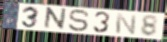3: (20, 5, 42, 29), (91, 11, 113, 34)
8: (140, 14, 159, 38)
N: (42, 6, 68, 31), (114, 12, 138, 36)
S: (67, 9, 91, 33)
